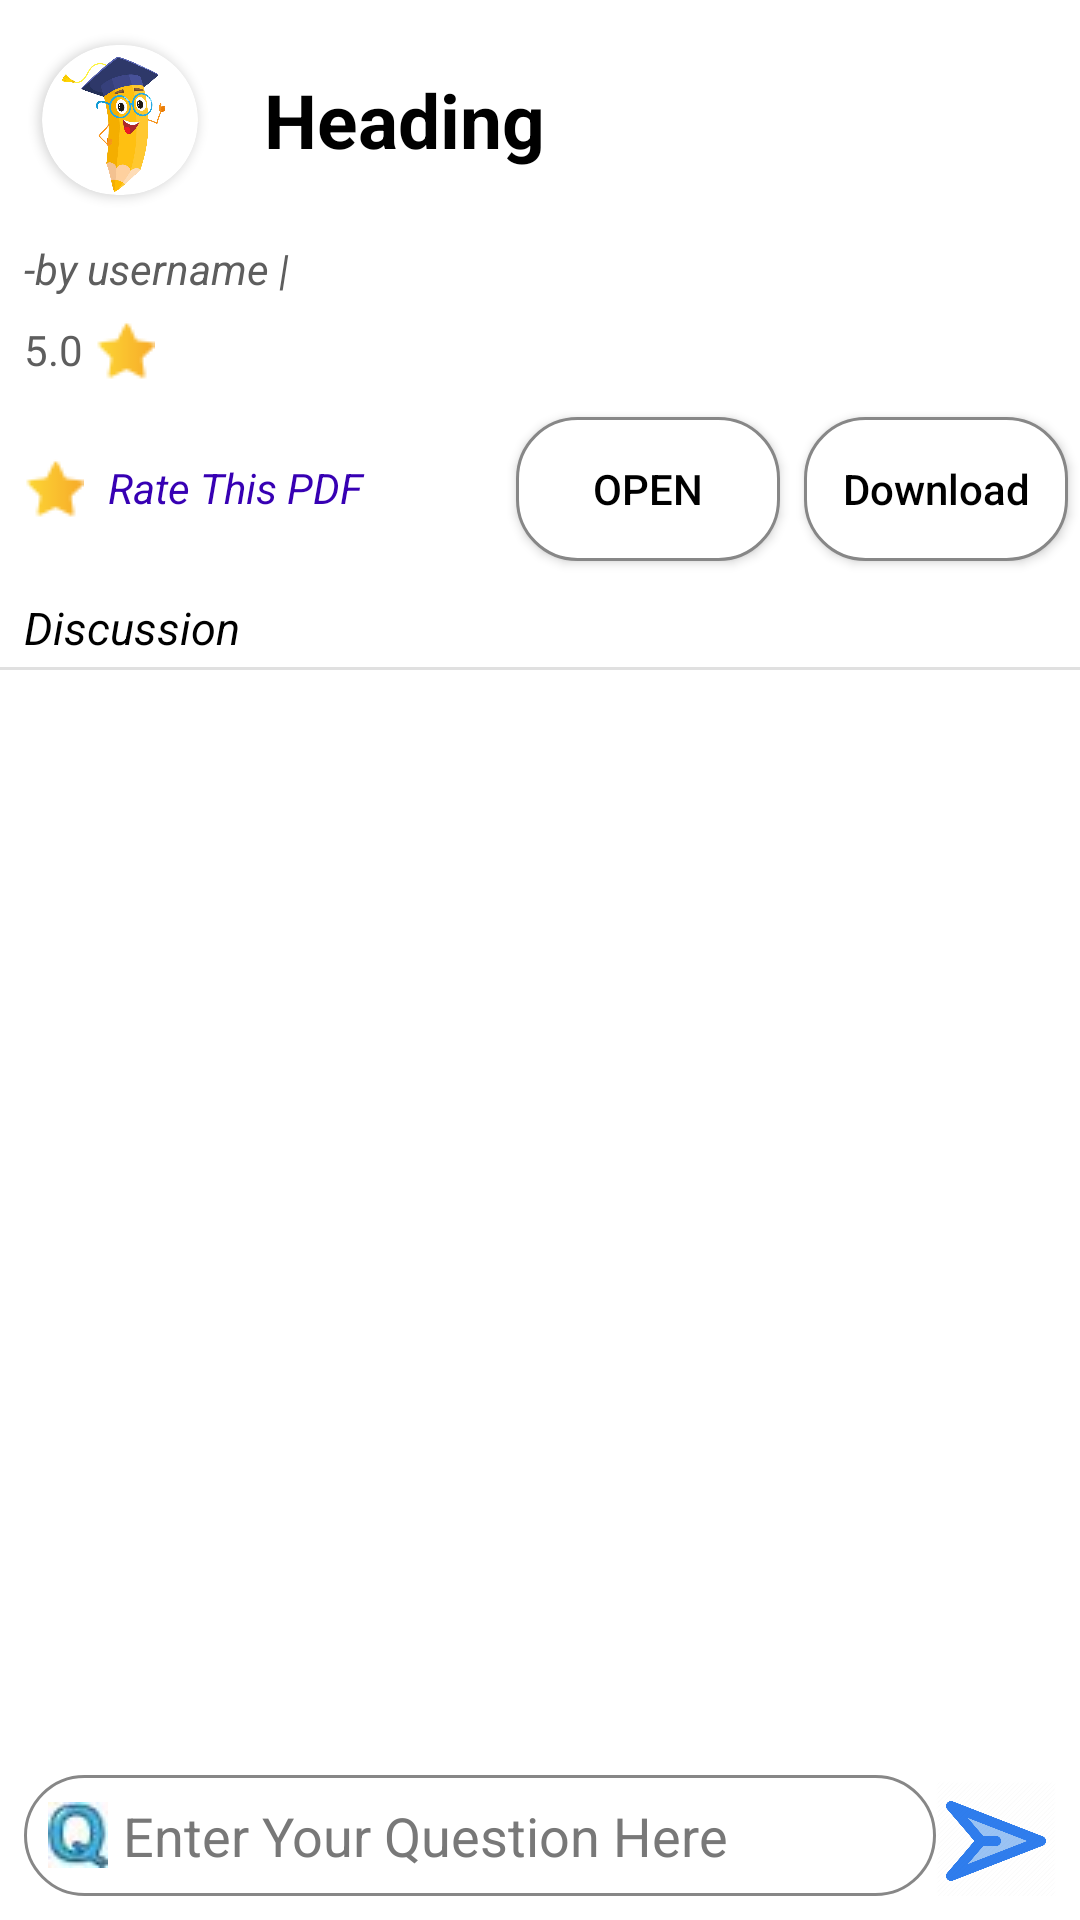

Where icons sit on this 1080px×1920px app screen, as [left=x1, top=y1, right=x2, bottom=y2]:
send: [left=946, top=1801, right=1046, bottom=1881]
